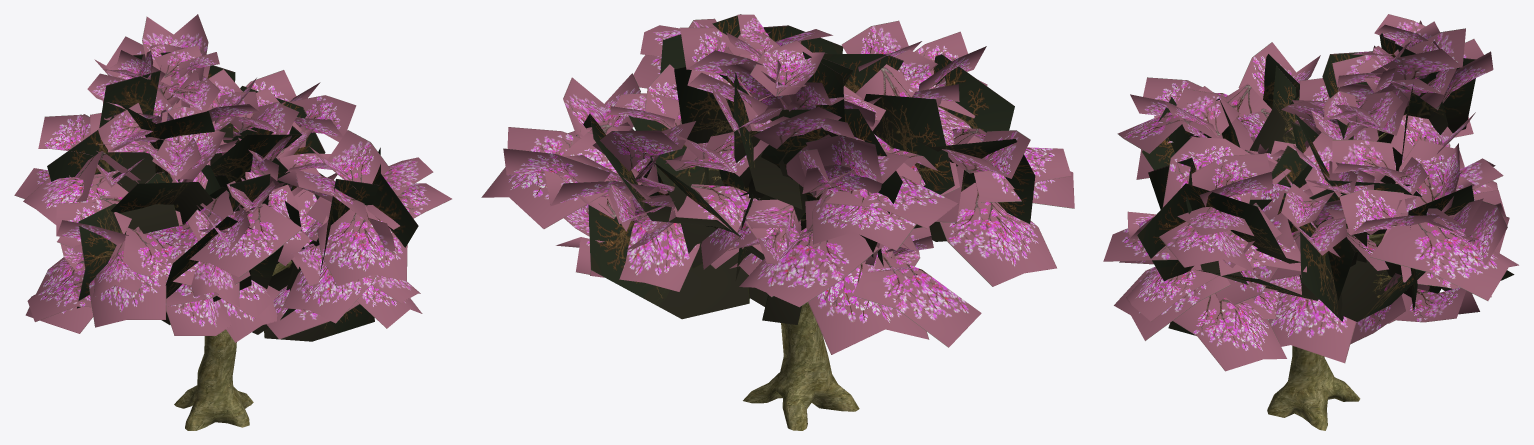
File: Scene_Tree_HongShu_6.FBX
3 renders of one model, left to right at view 1: azimuth 30°, elevation 25°; view 2: azimuth 150°, elevation 25°; view 3: azimuth 270°, elevation 25°, orthographic. The views are drawn at different scales.
Parts seen in each view (by area): view 1: Scene_Tree_HongShu_6b, Scene_Tree_HongShu_6a; view 2: Scene_Tree_HongShu_6b, Scene_Tree_HongShu_6a; view 3: Scene_Tree_HongShu_6b, Scene_Tree_HongShu_6a.
Boxes of the visible parts, <box> form: Scene_Tree_HongShu_6b: <box>14,14,451,342</box>; Scene_Tree_HongShu_6a: <box>174,261,292,430</box>; Scene_Tree_HongShu_6b: <box>481,14,1074,354</box>; Scene_Tree_HongShu_6a: <box>743,128,944,430</box>; Scene_Tree_HongShu_6b: <box>1103,14,1518,371</box>; Scene_Tree_HongShu_6a: <box>1267,132,1385,430</box>.
Bounding box in the file's own units: 1073 × 936 × 926.
